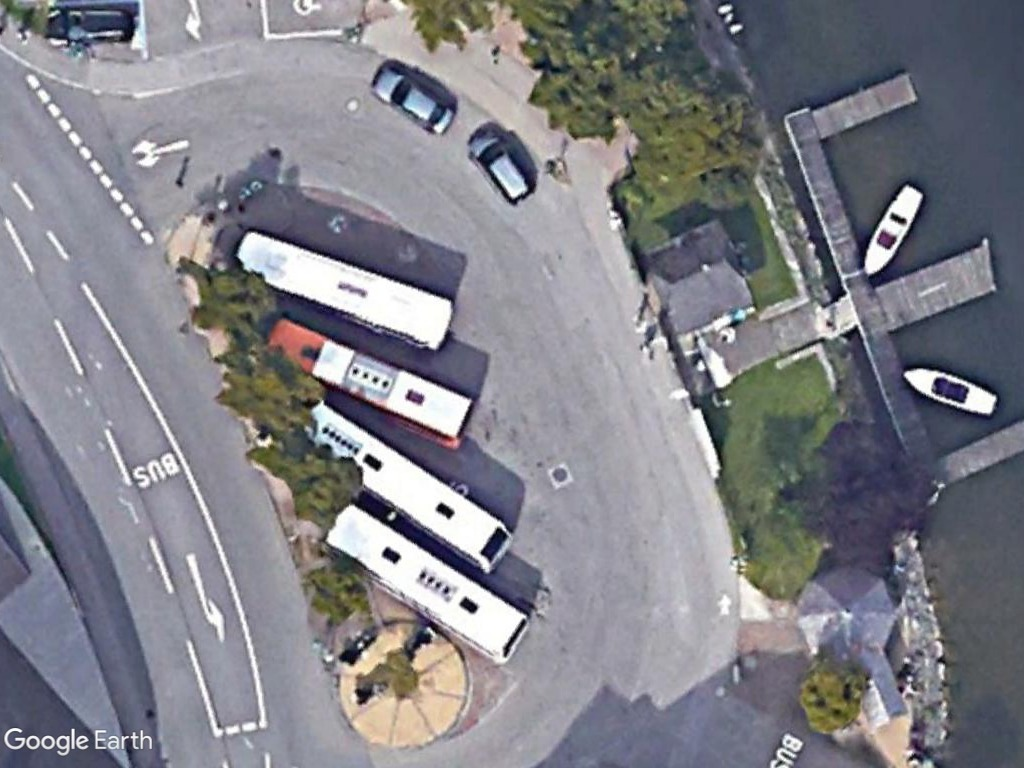boat: (856, 173, 927, 281), (896, 359, 1002, 421)
bus: (300, 398, 509, 569), (318, 499, 533, 665), (229, 226, 457, 353), (258, 316, 479, 440)
car: (366, 62, 457, 138), (465, 128, 539, 207)
